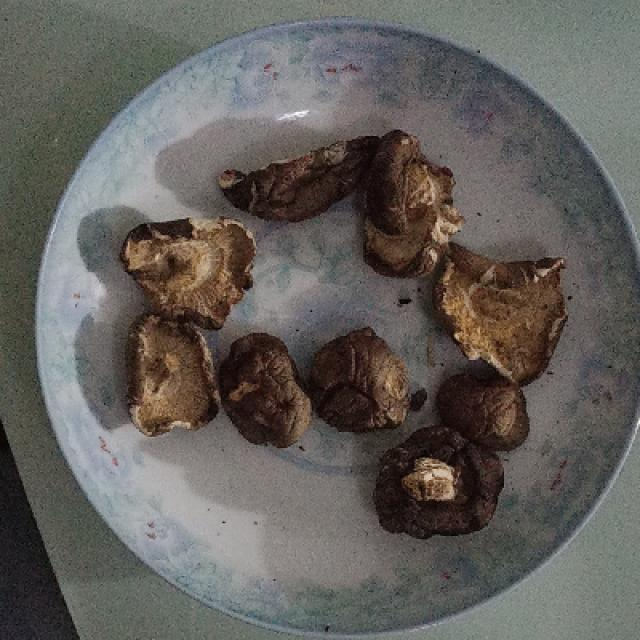Lentinus edodes: (435, 251, 576, 367), (126, 217, 261, 325), (220, 140, 380, 221), (117, 317, 226, 431), (369, 127, 454, 273), (304, 326, 415, 425), (382, 435, 496, 528), (217, 332, 308, 443), (435, 353, 531, 454)
